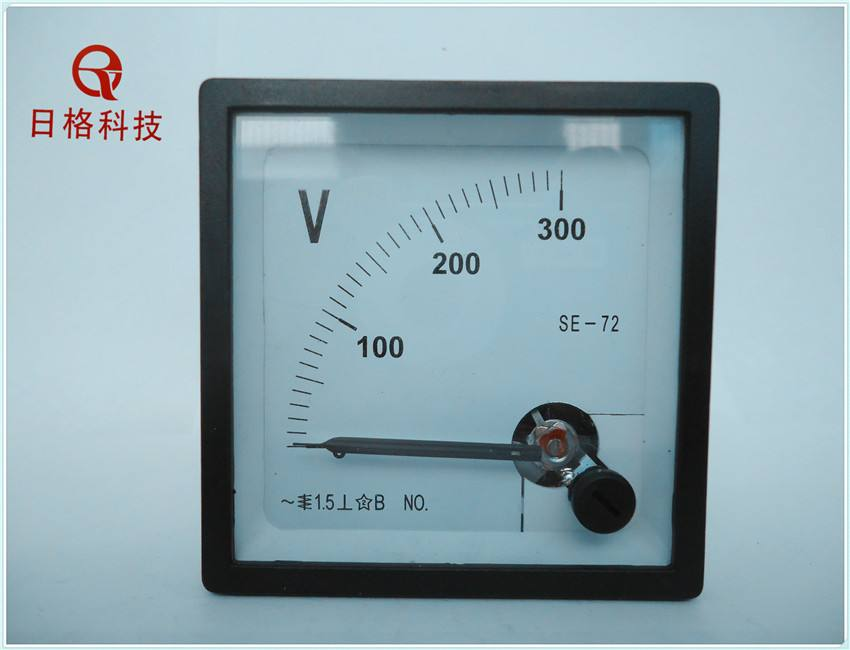pointer: (229, 107, 672, 570)
